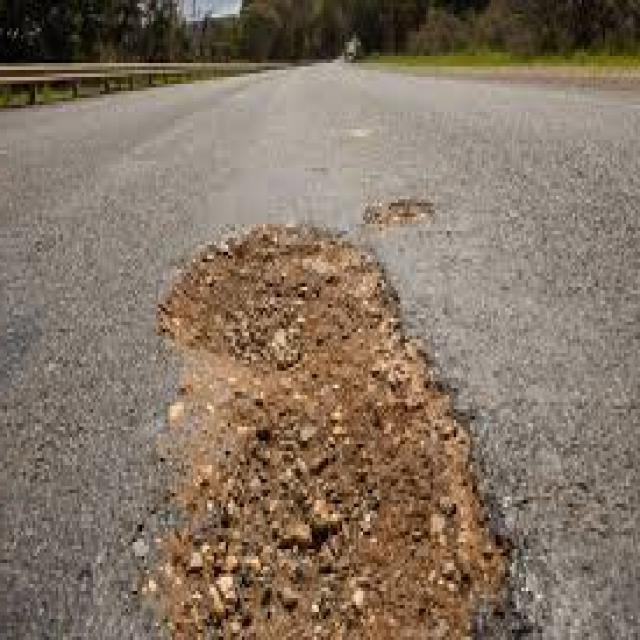Pothole: (119, 216, 533, 639), (359, 194, 438, 231)
